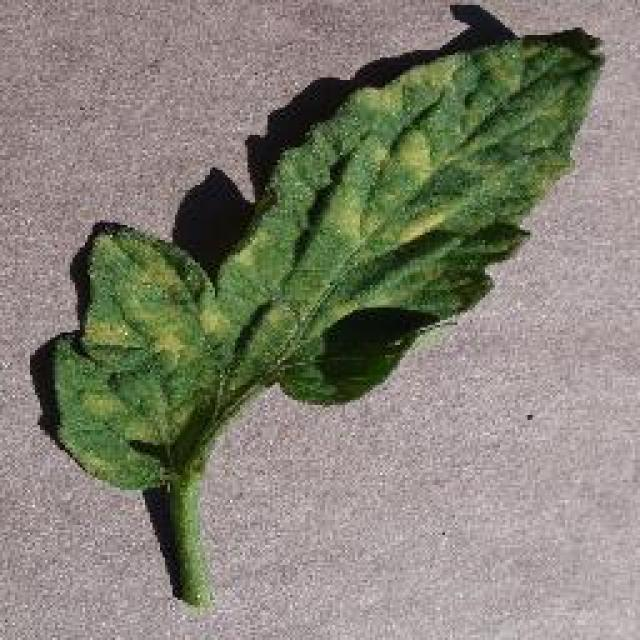Tomato___Leaf_Mold: (52, 30, 598, 600)
